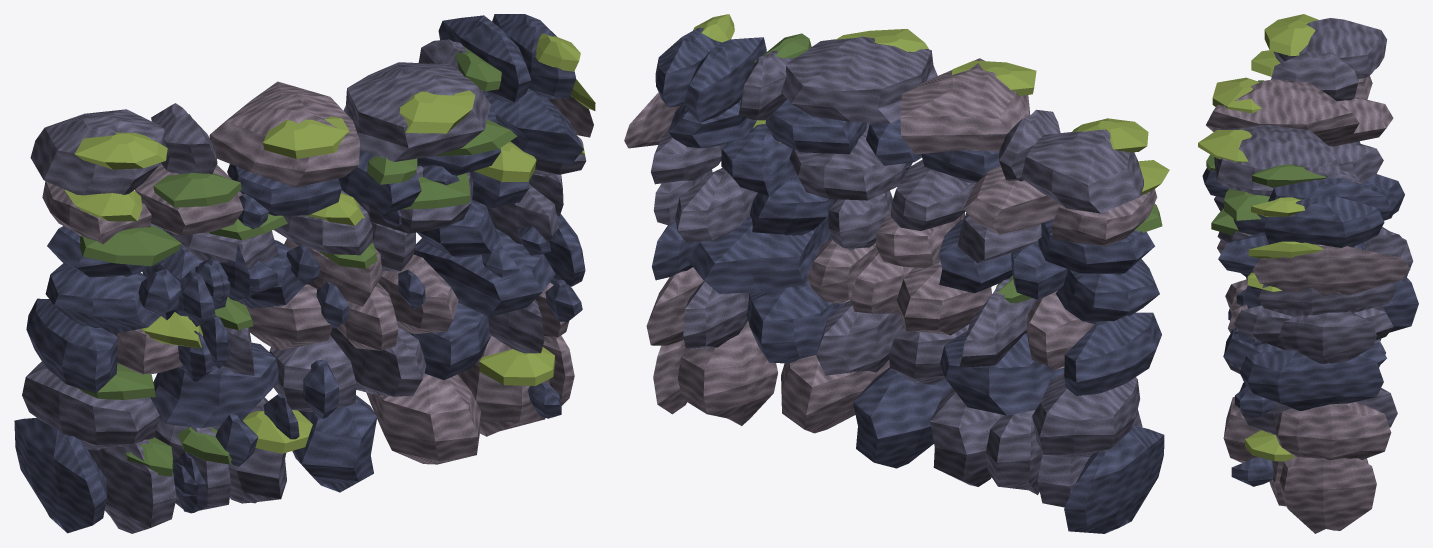
File: slate-ledge-b.glb
The picture shows the model from 3 angles, left to right: view 1: azimuth 30°, elevation 25°; view 2: azimuth 150°, elevation 25°; view 3: azimuth 270°, elevation 25°; orthographic projection. The views are drawn at different scales.
Parts seen in each view (by area): view 1: slate-ledge-b · Slate · shadow, slate-ledge-b · Slate · lavender, slate-ledge-b · Slate · sunlit, slate-ledge-b · Moss · gold green, slate-ledge-b · Moss · jade; view 2: slate-ledge-b · Slate · shadow, slate-ledge-b · Slate · lavender, slate-ledge-b · Slate · sunlit, slate-ledge-b · Moss · gold green, slate-ledge-b · Moss · jade; view 3: slate-ledge-b · Slate · sunlit, slate-ledge-b · Slate · lavender, slate-ledge-b · Slate · shadow, slate-ledge-b · Moss · gold green, slate-ledge-b · Moss · jade.
Part boxes in pixels (<box>): slate-ledge-b · Slate · shadow: <box>14,14,585,533</box>; slate-ledge-b · Slate · lavender: <box>22,39,586,533</box>; slate-ledge-b · Slate · sunlit: <box>42,81,593,464</box>; slate-ledge-b · Moss · gold green: <box>64,33,595,453</box>; slate-ledge-b · Moss · jade: <box>78,47,517,476</box>; slate-ledge-b · Slate · shadow: <box>651,27,1164,533</box>; slate-ledge-b · Slate · lavender: <box>651,36,1143,507</box>; slate-ledge-b · Slate · sunlit: <box>624,58,1157,433</box>; slate-ledge-b · Moss · gold green: <box>693,14,1169,195</box>; slate-ledge-b · Moss · jade: <box>754,33,1162,303</box>; slate-ledge-b · Slate · sunlit: <box>1206,75,1410,533</box>; slate-ledge-b · Slate · lavender: <box>1214,18,1412,434</box>; slate-ledge-b · Slate · shadow: <box>1202,141,1418,486</box>; slate-ledge-b · Moss · gold green: <box>1198,14,1323,461</box>; slate-ledge-b · Moss · jade: <box>1206,80,1325,235</box>.
Bounding box in the file's own units: 10.86 × 8.31 × 4.86.
Materials: 5 (3 with a texture image).
